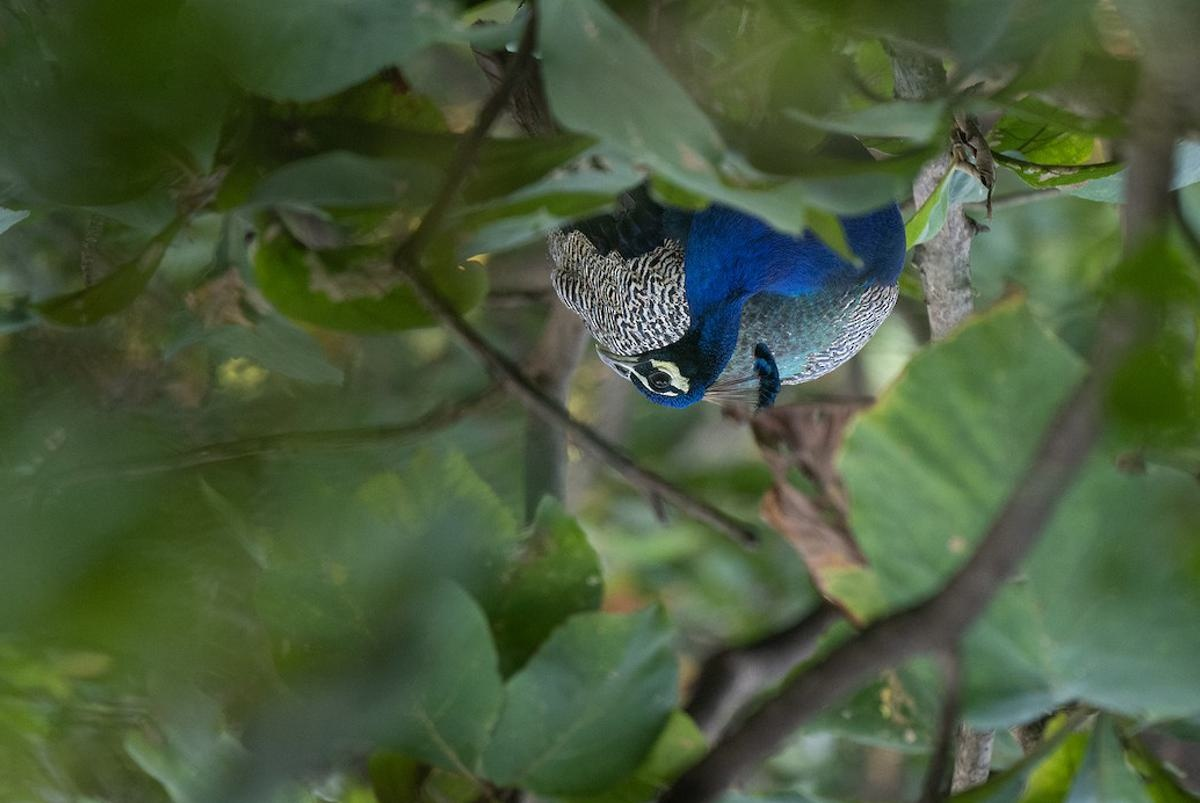peacock: (587, 124, 957, 426)
